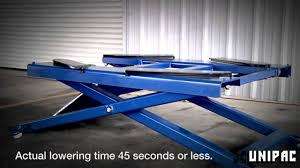Scissor Lift: (7, 53, 294, 168)
